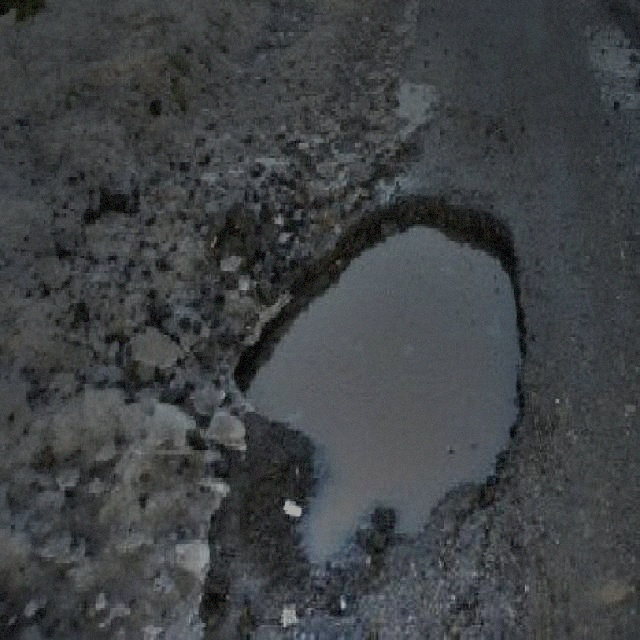pothole: (224, 190, 532, 565), (77, 188, 140, 250), (122, 318, 185, 369)
